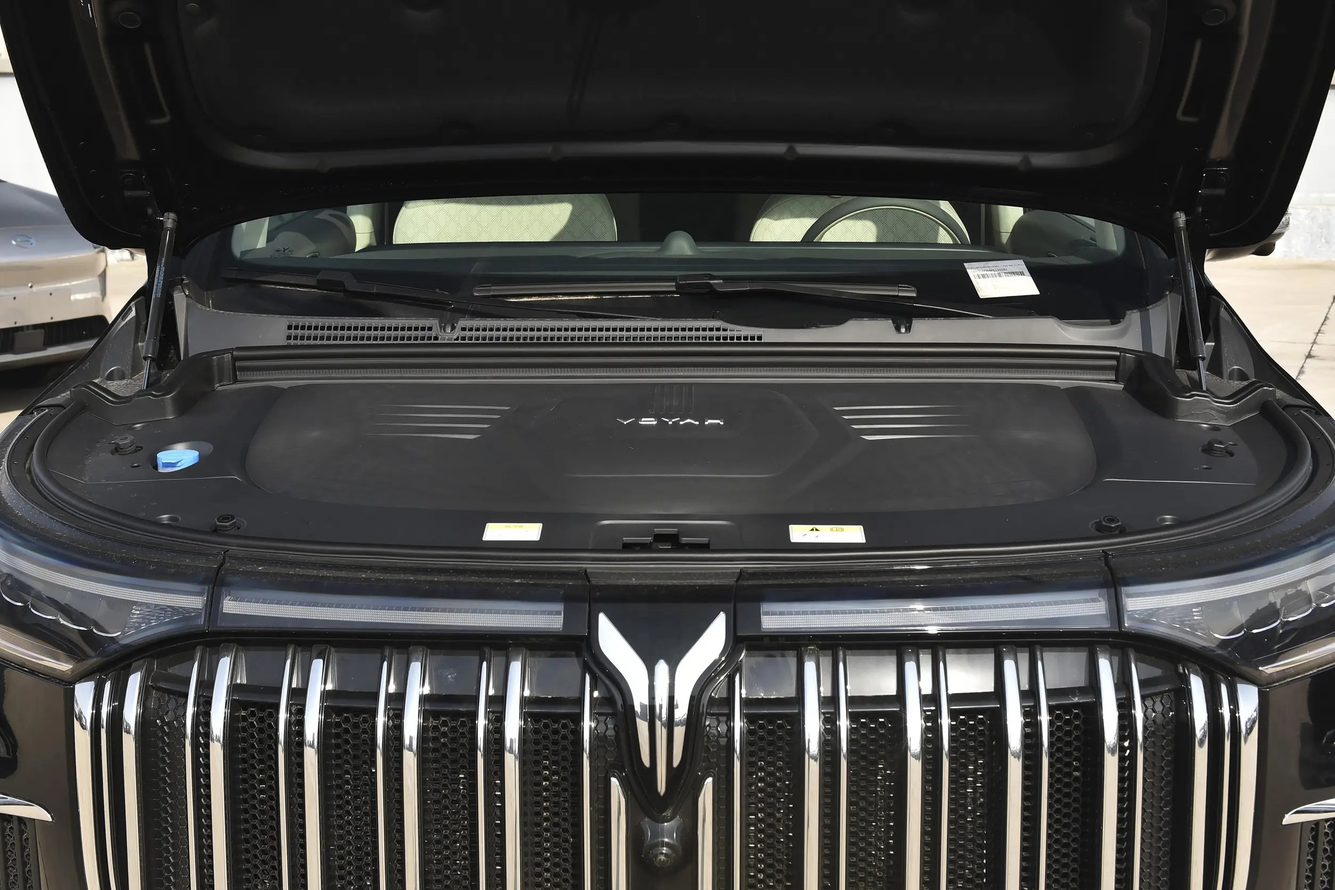VOYAH: (599, 612, 725, 797)
